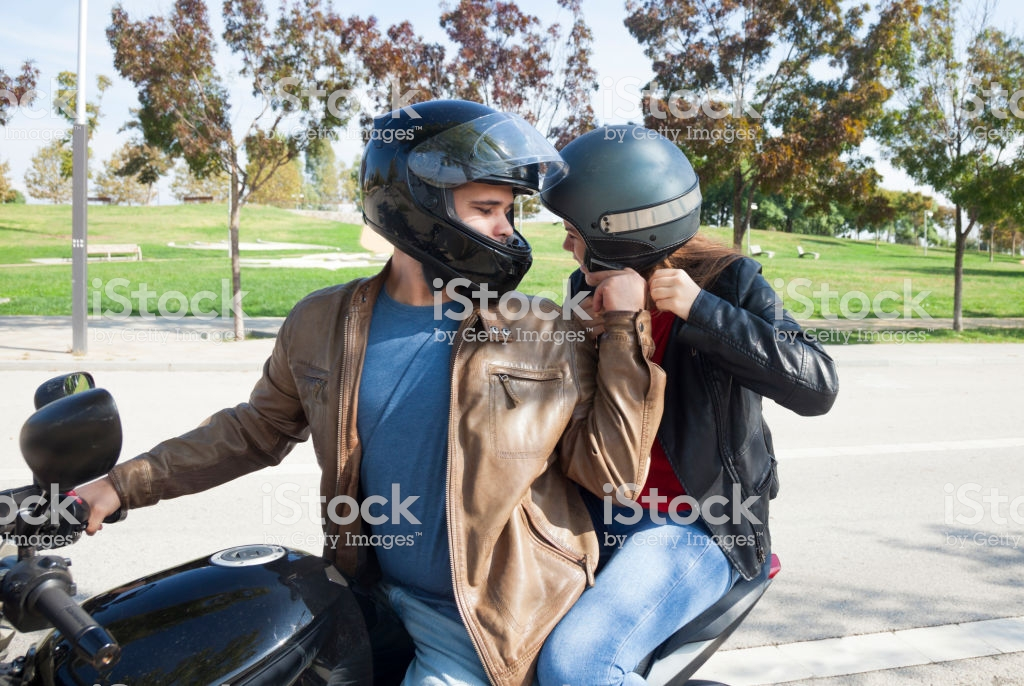helmet: (347, 77, 548, 279), (548, 133, 700, 256)
